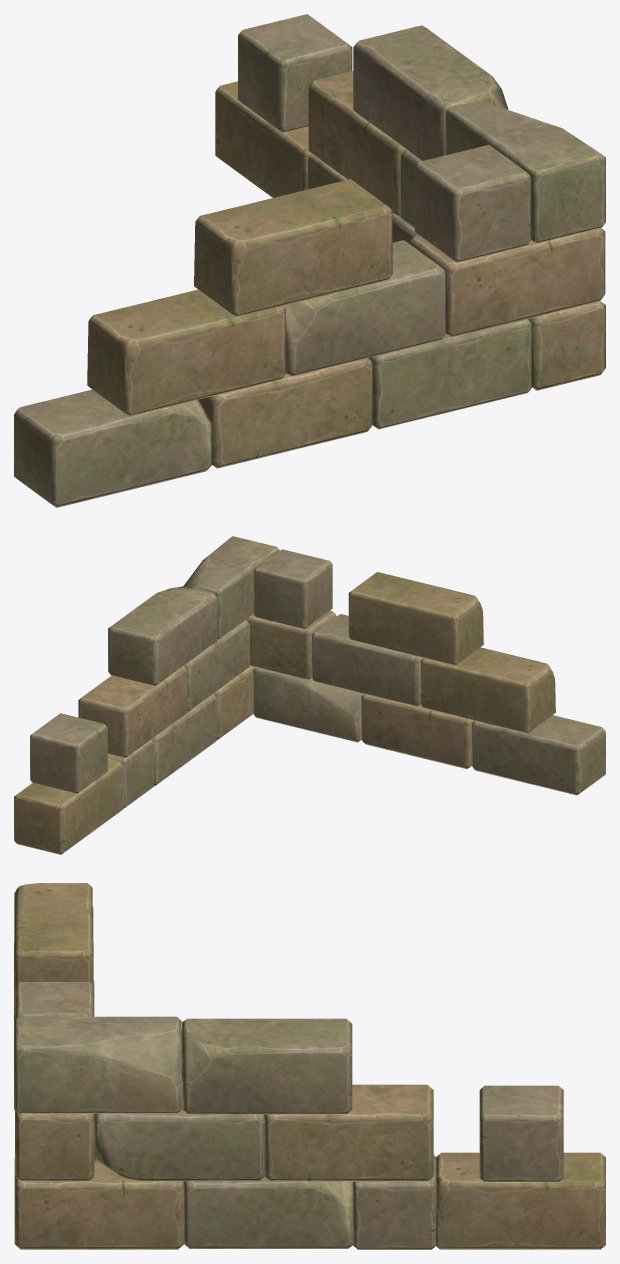
The model's file is SM_Brick_Rubble_Corner.fbx.
3 renders of one model, top to bottom at view 1: azimuth 30°, elevation 25°; view 2: azimuth 150°, elevation 25°; view 3: azimuth 270°, elevation 25°, orthographic. The views are drawn at different scales.
Parts seen in each view (by area): view 1: SM_Brick_Rubble_Corner_LOD0; view 2: SM_Brick_Rubble_Corner_LOD0; view 3: SM_Brick_Rubble_Corner_LOD0.
Boxes of the visible parts, x1=… form: SM_Brick_Rubble_Corner_LOD0: x1=14, y1=14, x2=605, y2=507; SM_Brick_Rubble_Corner_LOD0: x1=14, y1=536, x2=605, y2=854; SM_Brick_Rubble_Corner_LOD0: x1=14, y1=883, x2=605, y2=1249.
Bounding box in the file's own units: 150 × 151 × 57.32.
Materials: 1 (1 with a texture image).
